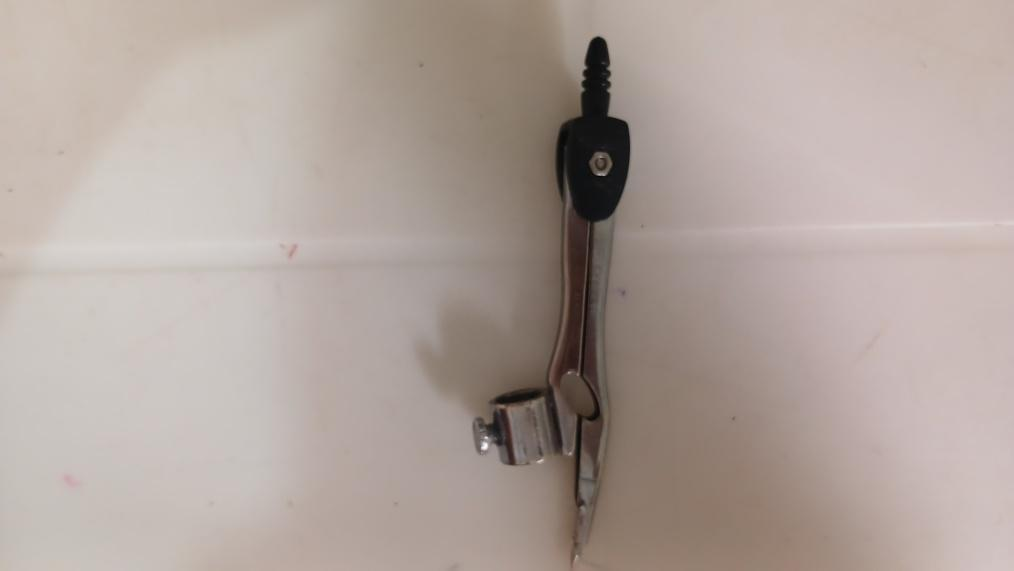Compass: (470, 34, 628, 569)
